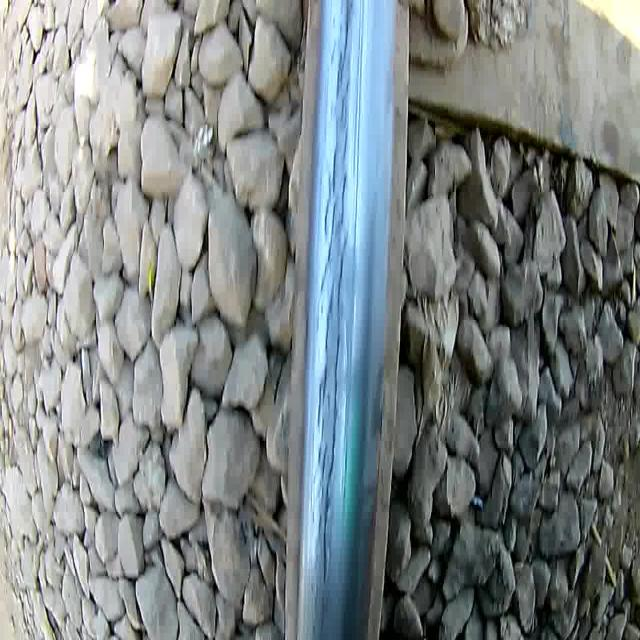Cracks: (312, 0, 354, 590)
Grooves: (339, 0, 369, 540)
